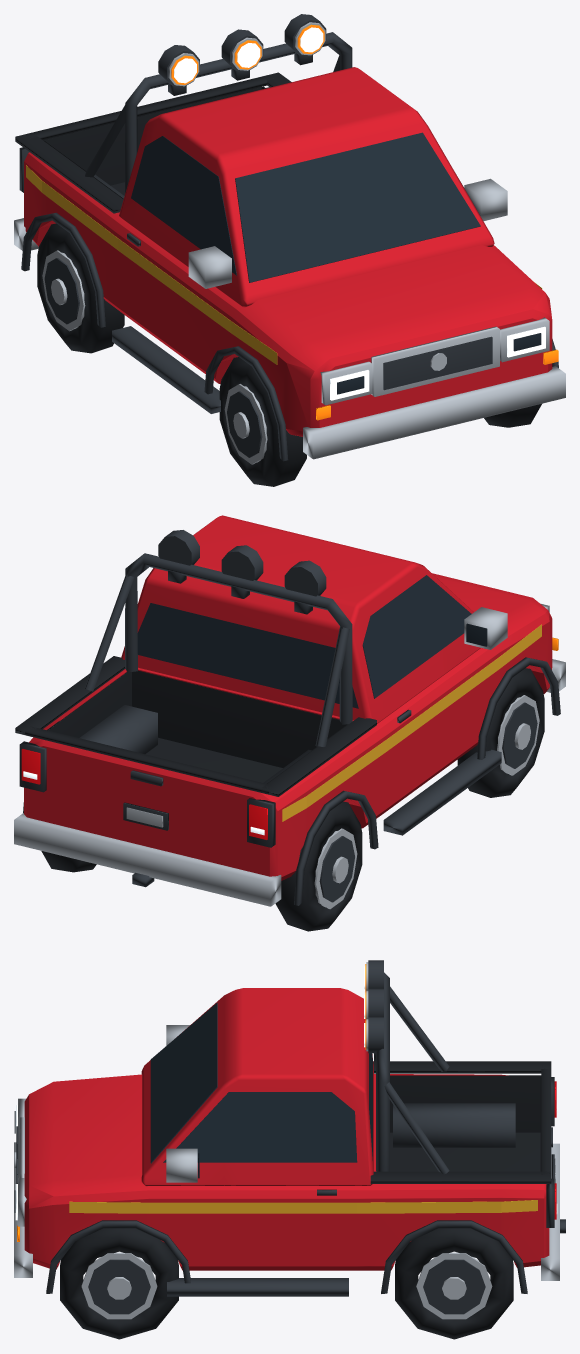
The model's file is NPC_UtilityPickup_LOD2.fbx.
3 views of the same model, one above another, from view 1: azimuth 30°, elevation 25°; view 2: azimuth 150°, elevation 25°; view 3: azimuth 270°, elevation 25° (orthographic). The views are drawn at different scales.
Parts seen in each view (by area): view 1: NPC_UtilityPickup_LOD2; view 2: NPC_UtilityPickup_LOD2; view 3: NPC_UtilityPickup_LOD2.
Boxes of the visible parts, x1=… form: NPC_UtilityPickup_LOD2: x1=14, y1=14, x2=565, y2=486; NPC_UtilityPickup_LOD2: x1=14, y1=515, x2=565, y2=931; NPC_UtilityPickup_LOD2: x1=14, y1=960, x2=565, y2=1339.
Bounding box in the file's own units: 284 × 286 × 490.
